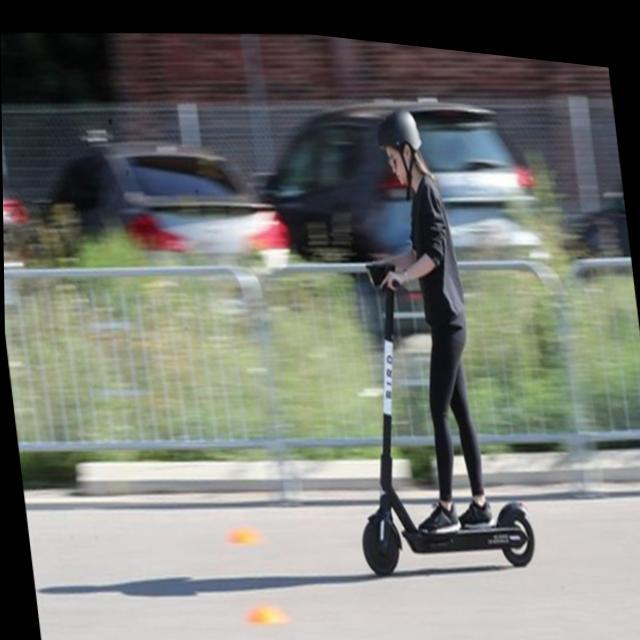Helmet: (369, 100, 434, 194)
